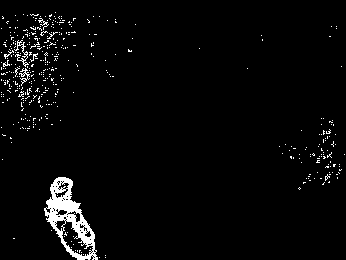person: (42, 172, 102, 260)
